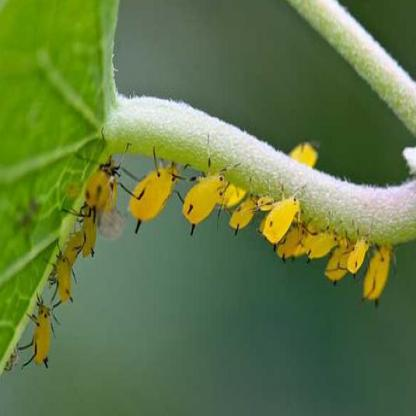aphid: (126, 141, 181, 236), (83, 138, 131, 239), (182, 144, 224, 230), (18, 288, 57, 373), (264, 176, 307, 249), (42, 236, 77, 311), (365, 234, 394, 310), (310, 207, 342, 272), (72, 198, 102, 266), (279, 209, 316, 261), (231, 176, 258, 238), (327, 228, 356, 284), (290, 137, 324, 177), (348, 227, 371, 276), (62, 222, 83, 275), (220, 171, 244, 213), (256, 188, 278, 218)
